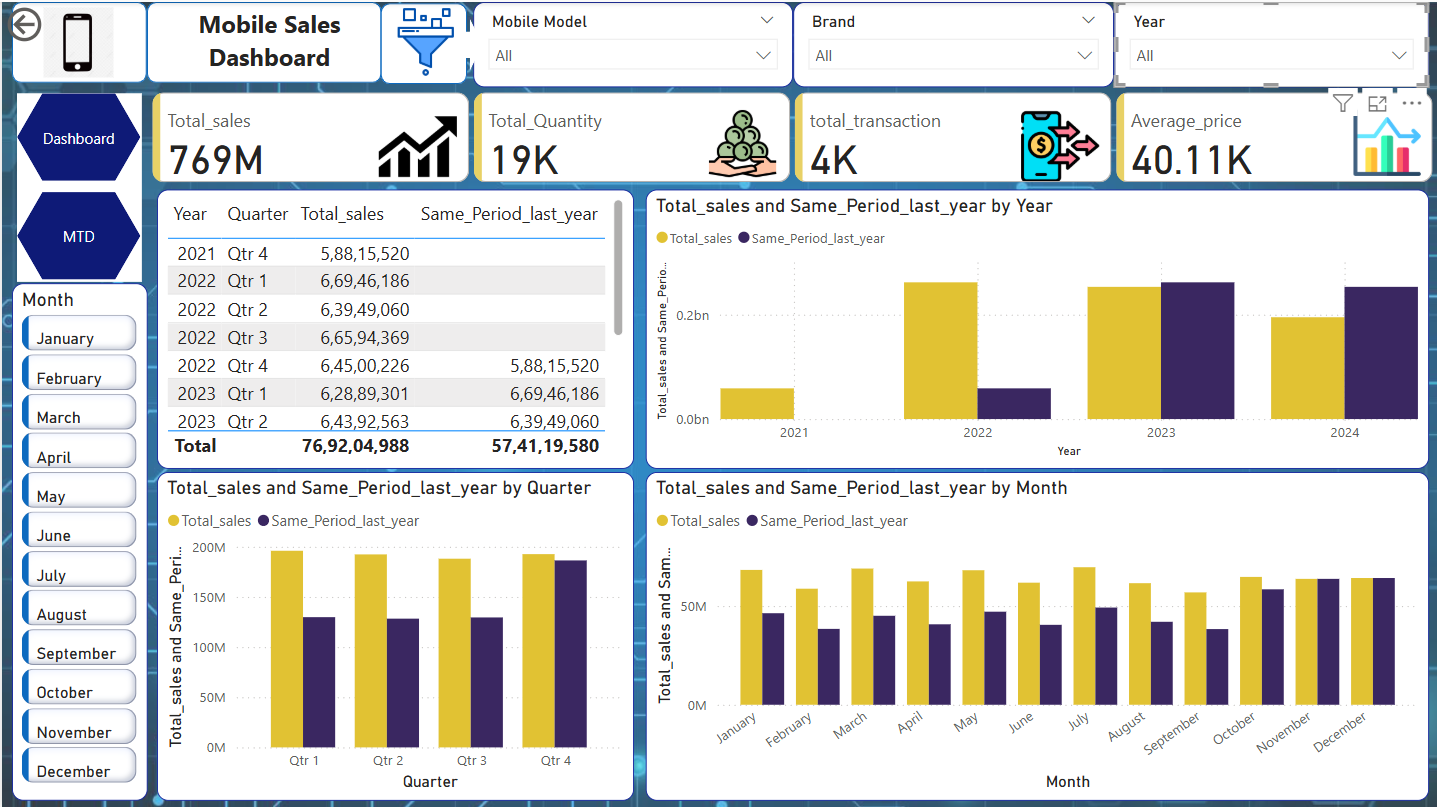

This screenshot's page, from the dashboard's own definition file:
{"tool":"powerbi","page":{"name":"Same period last year","canvas":[1280,720],"ordinal":2},"visuals":[{"type":"shape","box":[8.4,0,120.6,72.4],"z":0},{"type":"cardVisual","fields":{"Data":["sales_data.Total_sales","sales_data.Total_Quantity","sales_data.total_transaction","sales_data.Average_price"]},"box":[129.1,76,1150.9,90.5],"z":1000},{"type":"shape","box":[129.1,0,208.7,72.4],"z":2000},{"type":"slicer","fields":{"Values":["sales_data.Mobile Model"]},"box":[419.8,0,284.7,76],"z":3000},{"type":"slicer","fields":{"Values":["Custom_formula.Date.Variation.Date Hierarchy.Year"]},"box":[990.5,0,279.9,76],"z":4000},{"type":"slicer","fields":{"Values":["sales_data.Brand"]},"box":[704.6,0,285.9,76],"z":5000},{"type":"shape","box":[337.8,1.2,77.2,72.4],"z":6000},{"type":"image","box":[295.6,0,162.9,71.2],"z":7000},{"type":"shape","box":[405.4,14.5,22.9,47.1],"z":8000},{"type":"textbox","box":[137.5,0,200.3,71.2],"z":9000},{"type":"actionButton","box":[0,0,100,40],"z":10000},{"type":"advancedSlicerVisual","fields":{"Values":["Custom_formula.Date.Variation.Date Hierarchy.Month"]},"box":[8.4,250.9,120.6,460.9],"z":11000},{"type":"tableEx","fields":{"Values":["Custom_formula.Date.Variation.Date Hierarchy.Year","Custom_formula.Date.Variation.Date Hierarchy.Quarter","sales_data.Total_sales","sales_data.Same_Period_last_year"]},"box":[137.5,166.5,424.7,248.5],"z":12000},{"type":"clusteredColumnChart","fields":{"Category":["Custom_formula.Date.Variation.Date Hierarchy.Year","Custom_formula.Date.Variation.Date Hierarchy.Quarter"],"Y":["sales_data.Total_sales","sales_data.Same_Period_last_year"]},"box":[573.1,166.5,697.3,248.5],"z":13000},{"type":"clusteredColumnChart","fields":{"Y":["sales_data.Total_sales","sales_data.Same_Period_last_year"],"Category":["Custom_formula.Date.Variation.Date Hierarchy.Year","Custom_formula.Date.Variation.Date Hierarchy.Month"]},"box":[573.1,418.6,697.3,293.2],"z":14000},{"type":"clusteredColumnChart","fields":{"Category":["Custom_formula.Date.Variation.Date Hierarchy.Year","Custom_formula.Date.Variation.Date Hierarchy.Quarter"],"Y":["sales_data.Total_sales","sales_data.Same_Period_last_year"]},"box":[137.5,418.6,424.7,293.2],"z":15000},{"type":"pageNavigator","box":[13.3,80.8,111,167.7],"z":16000},{"type":"image","box":[3.6,0,129.1,72.4],"z":17000}]}

Visuals, with their boxes in screenshot pixels (x1, y1, x2, y2), scaled from the page's 1280x720 canvas onto the 1437x807 screenshot:
shape: {"left": 9, "top": 0, "right": 145, "bottom": 81}
cardVisual - sales_data.Total_sales x sales_data.Total_Quantity: {"left": 145, "top": 85, "right": 1436, "bottom": 187}
shape: {"left": 145, "top": 0, "right": 379, "bottom": 81}
slicer - sales_data.Mobile Model: {"left": 471, "top": 0, "right": 791, "bottom": 85}
slicer - Custom_formula.Date.Variation.Date Hierarchy.Year: {"left": 1112, "top": 0, "right": 1426, "bottom": 85}
slicer - sales_data.Brand: {"left": 791, "top": 0, "right": 1112, "bottom": 85}
shape: {"left": 379, "top": 1, "right": 466, "bottom": 82}
image: {"left": 332, "top": 0, "right": 515, "bottom": 80}
shape: {"left": 455, "top": 16, "right": 481, "bottom": 69}
textbox: {"left": 154, "top": 0, "right": 379, "bottom": 80}
actionButton: {"left": 0, "top": 0, "right": 112, "bottom": 45}
advancedSlicerVisual - Custom_formula.Date.Variation.Date Hierarchy.Month: {"left": 9, "top": 281, "right": 145, "bottom": 798}
tableEx - Custom_formula.Date.Variation.Date Hierarchy.Year x Custom_formula.Date.Variation.Date Hierarchy.Quarter: {"left": 154, "top": 187, "right": 631, "bottom": 465}
clusteredColumnChart - Custom_formula.Date.Variation.Date Hierarchy.Year x Custom_formula.Date.Variation.Date Hierarchy.Quarter: {"left": 643, "top": 187, "right": 1426, "bottom": 465}
clusteredColumnChart - sales_data.Total_sales x sales_data.Same_Period_last_year: {"left": 643, "top": 469, "right": 1426, "bottom": 798}
clusteredColumnChart - Custom_formula.Date.Variation.Date Hierarchy.Year x Custom_formula.Date.Variation.Date Hierarchy.Quarter: {"left": 154, "top": 469, "right": 631, "bottom": 798}
pageNavigator: {"left": 15, "top": 91, "right": 140, "bottom": 279}
image: {"left": 4, "top": 0, "right": 149, "bottom": 81}
